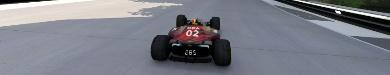Car: (150, 14, 231, 66)
